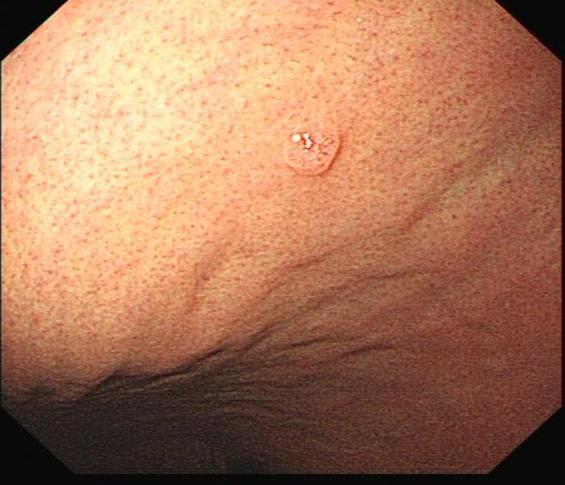Polyp: (281, 127, 342, 180)
